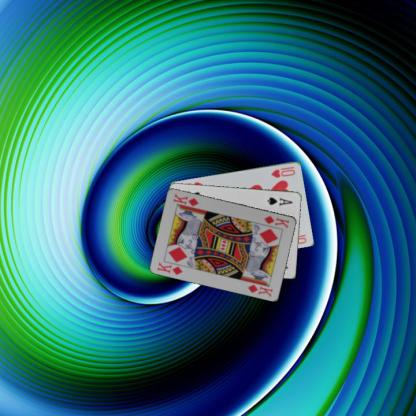10h: (269, 164, 296, 179)
As: (264, 195, 294, 206)
Kd: (155, 260, 184, 276), (262, 214, 290, 230)
